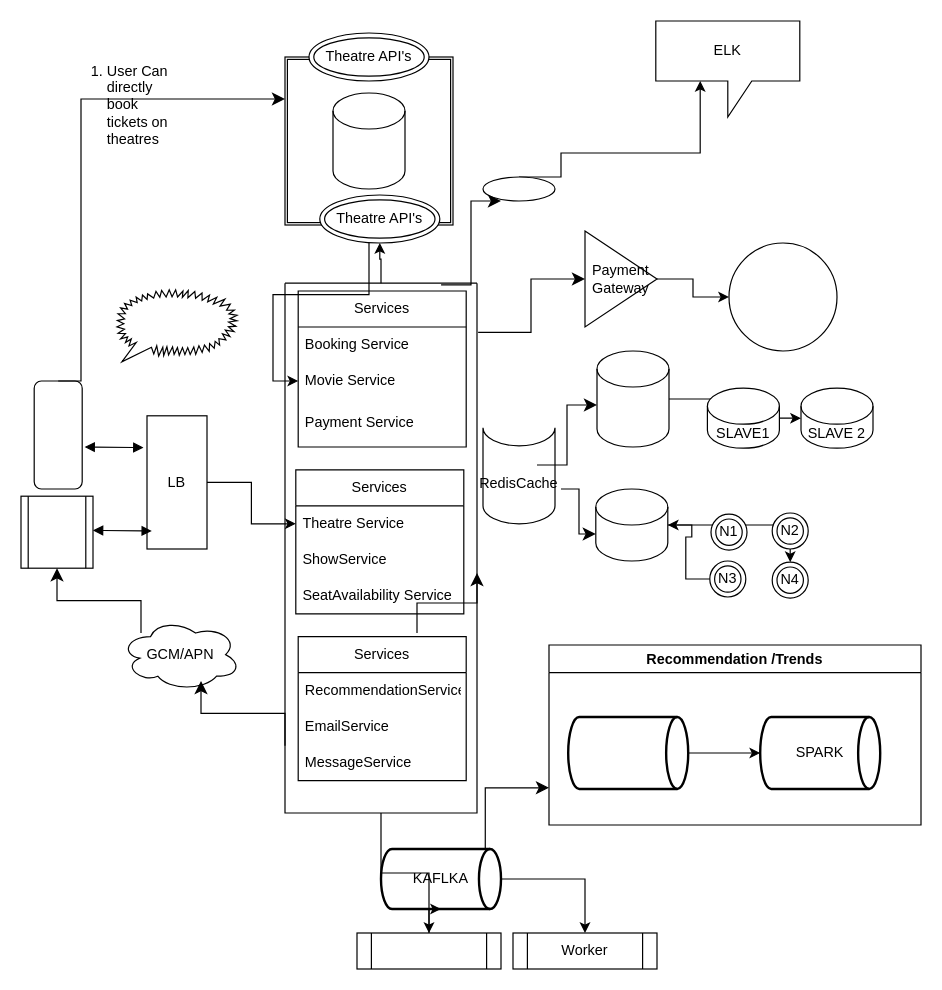
This 942x990 diagram has some shape labels left out. The centre of each missing label's shape, as x and y in pixels:
"CDN" belongs at pixel 176 325.
"DB" belongs at pixel 368 140.
"HADOOP /BIGDATA" belongs at pixel 627 752.
"Laptop" belongs at pixel 56 531.
"Logstash" belongs at pixel 518 188.
"Mobile" belongs at pixel 57 434.
"NO SQL" belongs at pixel 631 524.
"PaymentSystem" belongs at pixel 782 296.
"RDBMS" belongs at pixel 632 398.
"Workers" belongs at pixel 428 950.
